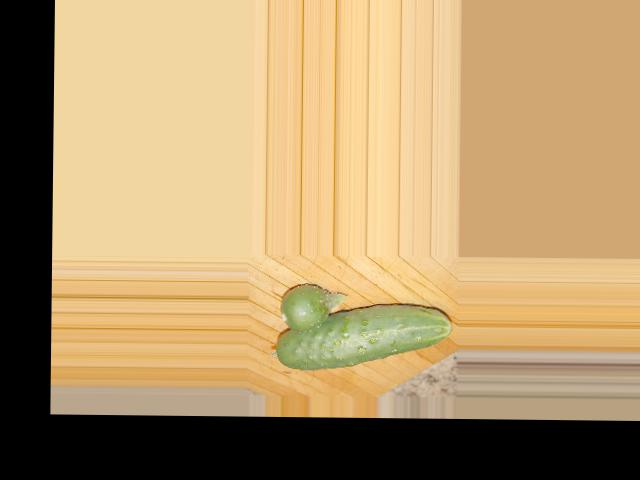cucumber: (275, 302, 452, 371)
